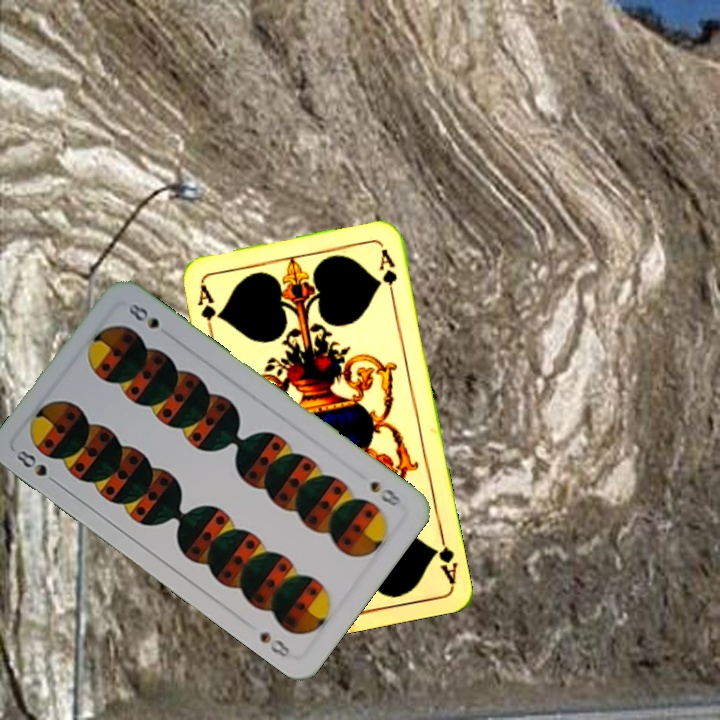GA: (428, 528, 460, 586), (193, 279, 221, 338)
S8: (9, 446, 63, 489), (366, 476, 405, 509)
